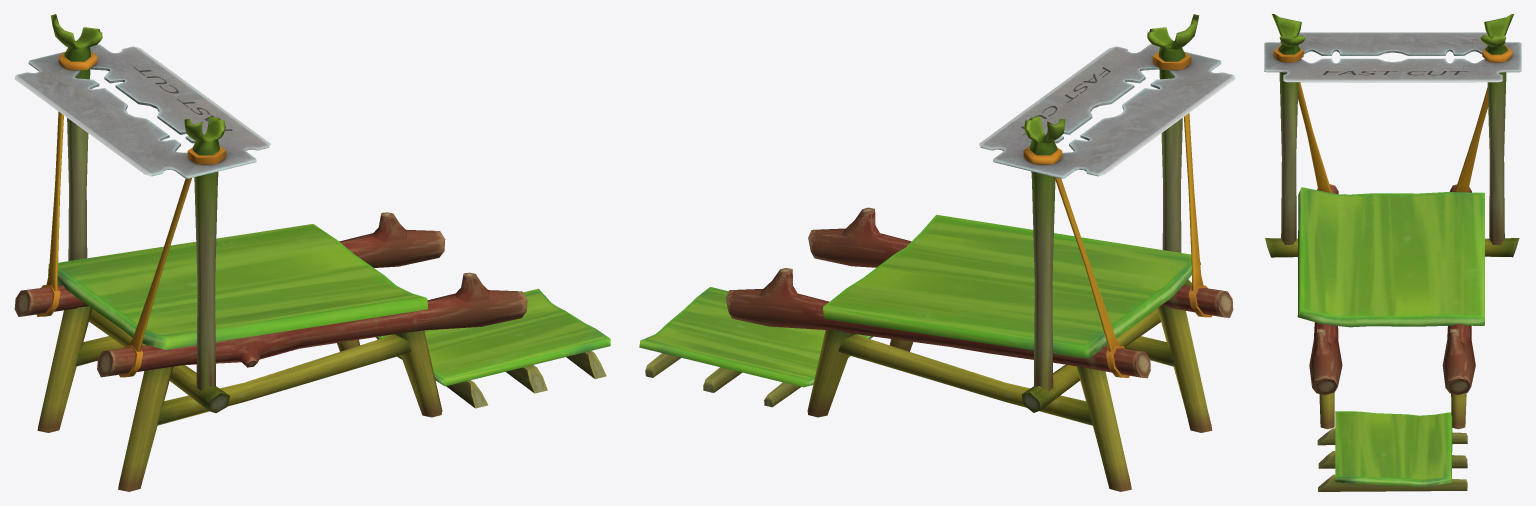
File: QieKuaiji_V001.fbx
3 views of the same model, side by side, from view 1: azimuth 30°, elevation 25°; view 2: azimuth 150°, elevation 25°; view 3: azimuth 270°, elevation 25° (orthographic). The views are drawn at different scales.
Parts seen in each view (by area): view 1: polySurface22, polySurface21, polySurface16; view 2: polySurface22, polySurface21, polySurface16; view 3: polySurface22, polySurface21, polySurface16.
Boxes of the visible parts, left/top/right/bottom form: polySurface22: left=14, top=212, right=610, bottom=491; polySurface21: left=14, top=14, right=270, bottom=412; polySurface16: left=46, top=111, right=191, bottom=351; polySurface22: left=639, top=207, right=1233, bottom=491; polySurface21: left=979, top=14, right=1235, bottom=412; polySurface16: left=1054, top=113, right=1203, bottom=351; polySurface22: left=1297, top=184, right=1484, bottom=491; polySurface21: left=1264, top=14, right=1521, bottom=257; polySurface16: left=1298, top=82, right=1488, bottom=192.
Size of the model in its own units: 364 by 257 by 194.
2 materials, 2 textured.
